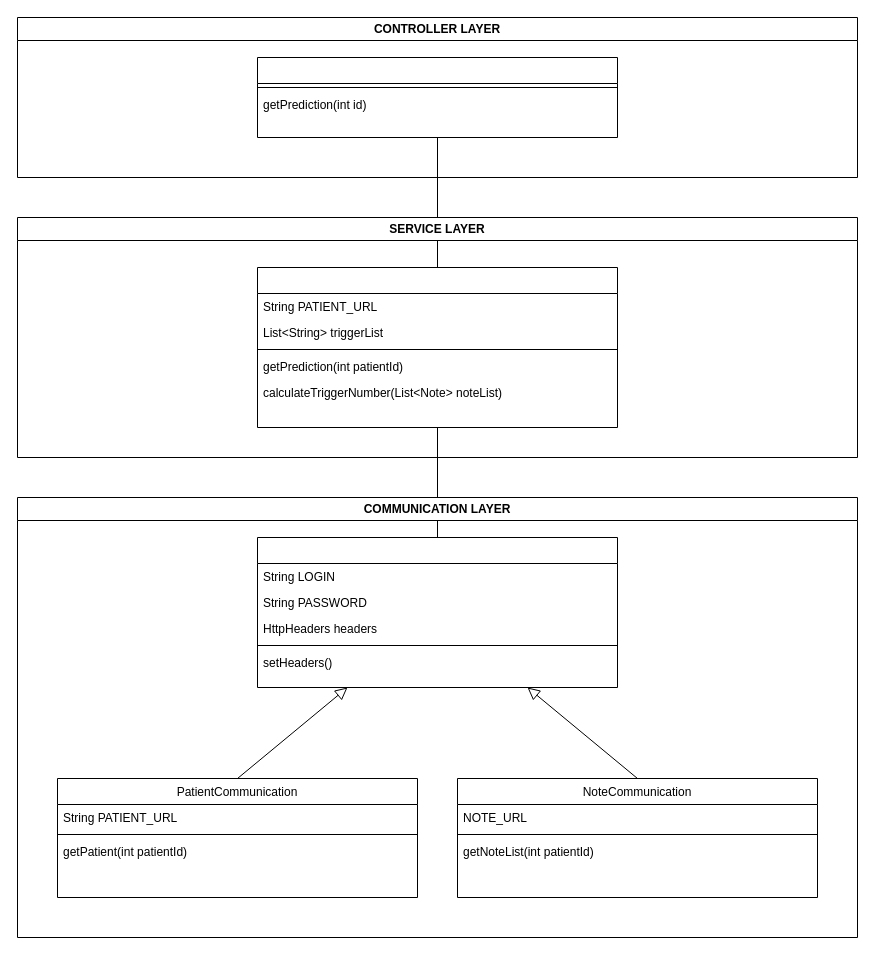
The diagram is 875 pixels wide and 955 high, and some of its shapes have lost their labels. Each missing label, with the box of its shape:
BasicCommunication: (256, 536, 618, 688)
PredictionController: (256, 56, 618, 138)
PredictionService: (256, 266, 618, 428)
